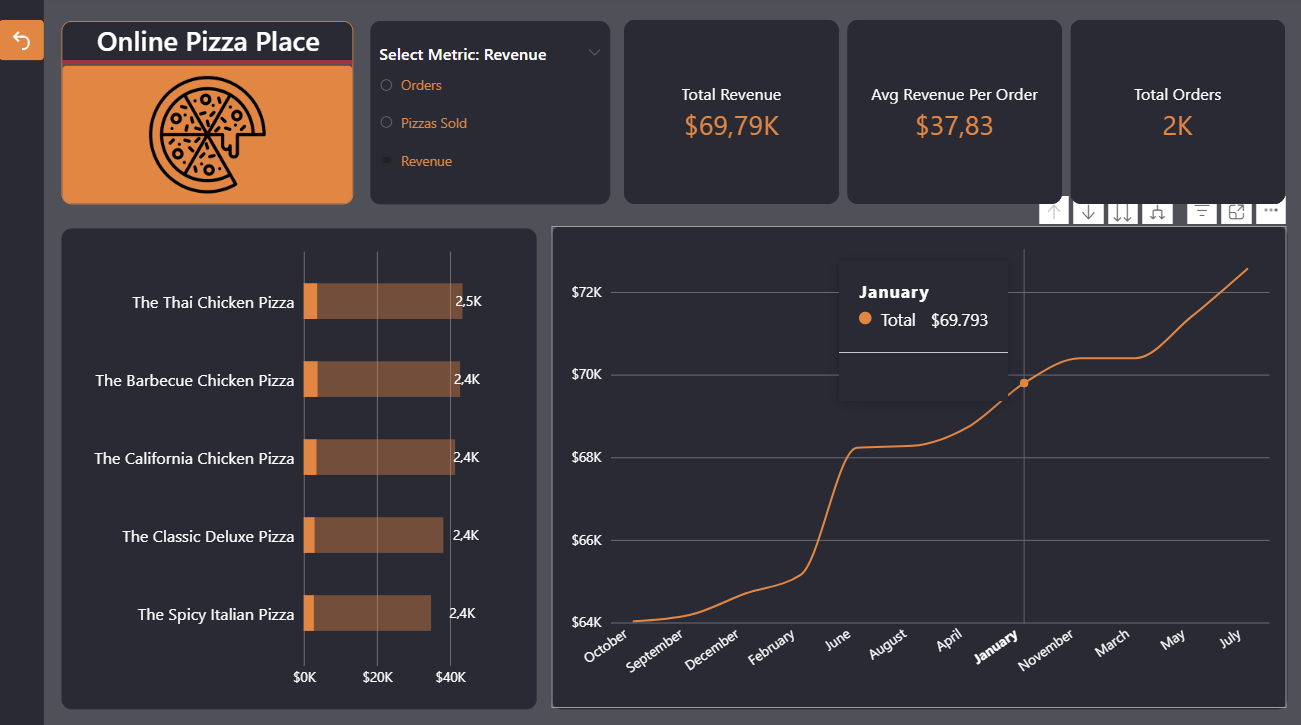

This screenshot's page, from the dashboard's own definition file:
{"tool":"powerbi","page":{"name":"Exec Dashboard","canvas":[1280,720],"ordinal":0},"visuals":[{"type":"slicer","fields":{"Values":["_Metric Selection.Select Metric"]},"box":[365,25,235,180],"z":0},{"type":"lineChart","fields":{"Category":["orders.date.Variation.Date Hierarchy.Month","orders.date.Variation.Date Hierarchy.Day","orders.Time Slot"],"Y":["_Measures.Total Revenue"]},"box":[542,226,722,474],"z":1000},{"type":"clusteredBarChart","fields":{"Category":["pizza_types.name"],"Y":["_Measures.Total Revenue"]},"box":[61.7,228.3,466.7,471.7],"z":2000},{"type":"cardVisual","fields":{"Data":["_Measures.Total Revenue","_Measures.Avg Revenue Per Order","_Measures.Total Orders"]},"box":[613.3,23.3,650,181.7],"z":3000},{"type":"shape","box":[0,0,44,720],"z":4000},{"type":"actionButton","box":[0,22.9,44.3,40],"z":5000},{"type":"image","title":"Online Pizza Place","box":[61.7,25,286.7,180],"z":6000}]}

Visuals, with their boxes on the page's 1280x720 design canvas (x1, y1, x2, y2). These are canvas units, not pixel positions in the 1301x725 screenshot, which may show the page scaled, cropped or inside an application window:
slicer - _Metric Selection.Select Metric: Rect(365, 25, 600, 205)
lineChart - orders.date.Variation.Date Hierarchy.Month x orders.date.Variation.Date Hierarchy.Day: Rect(542, 226, 1264, 700)
clusteredBarChart - pizza_types.name x _Measures.Total Revenue: Rect(62, 228, 528, 700)
cardVisual - _Measures.Total Revenue x _Measures.Avg Revenue Per Order: Rect(613, 23, 1263, 205)
shape: Rect(0, 0, 44, 720)
actionButton: Rect(0, 23, 44, 63)
"Online Pizza Place" image: Rect(62, 25, 348, 205)
